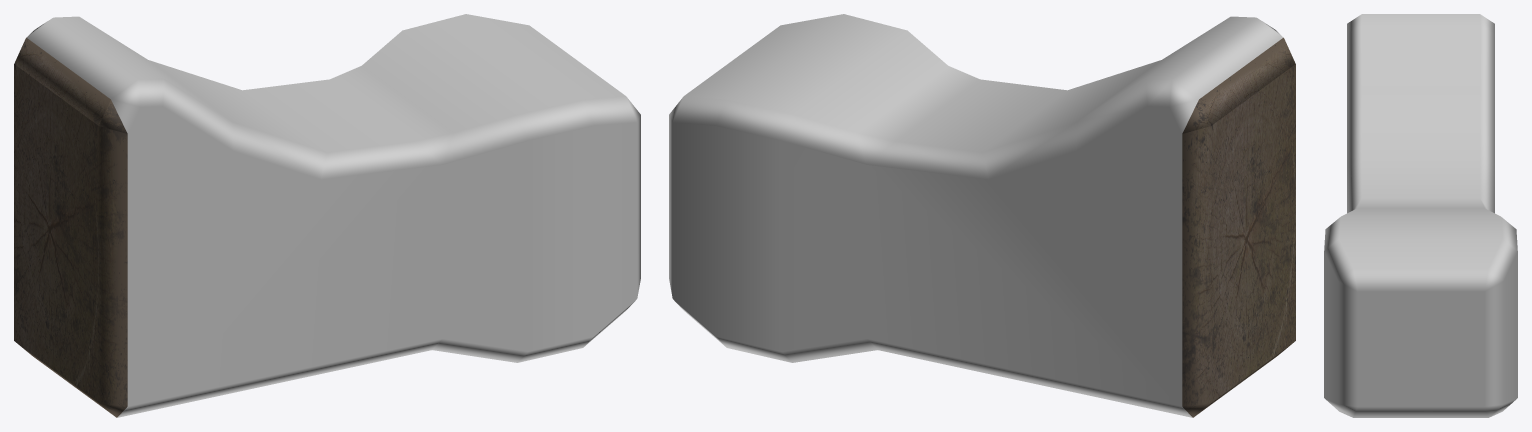
The model's file is SM_Beam_roof_end_01.fbx.
3 renders of one model, left to right at view 1: azimuth 30°, elevation 25°; view 2: azimuth 150°, elevation 25°; view 3: azimuth 270°, elevation 25°, orthographic. The views are drawn at different scales.
Parts seen in each view (by area): view 1: SM_Beam_roof_end_01_LOD0; view 2: SM_Beam_roof_end_01_LOD0; view 3: SM_Beam_roof_end_01_LOD0.
Boxes of the visible parts, bbox=[...] form: SM_Beam_roof_end_01_LOD0: bbox=[14, 14, 640, 417]; SM_Beam_roof_end_01_LOD0: bbox=[669, 14, 1295, 417]; SM_Beam_roof_end_01_LOD0: bbox=[1324, 14, 1517, 417].
Size of the model in its own units: 96.75 by 43.21 by 61.96.
